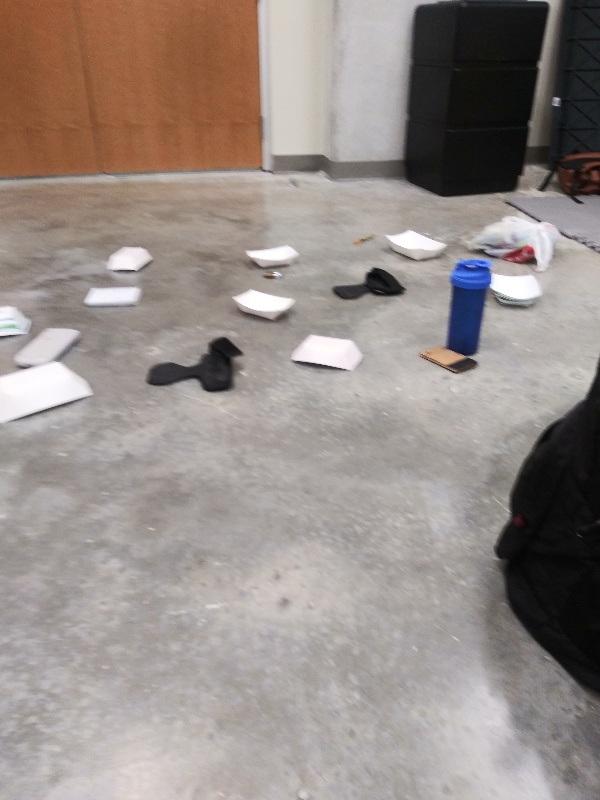plate: (1, 359, 99, 431), (285, 332, 365, 373), (381, 227, 455, 264), (224, 287, 300, 323), (488, 269, 548, 310), (242, 239, 302, 270), (104, 243, 157, 276), (1, 298, 35, 343)
